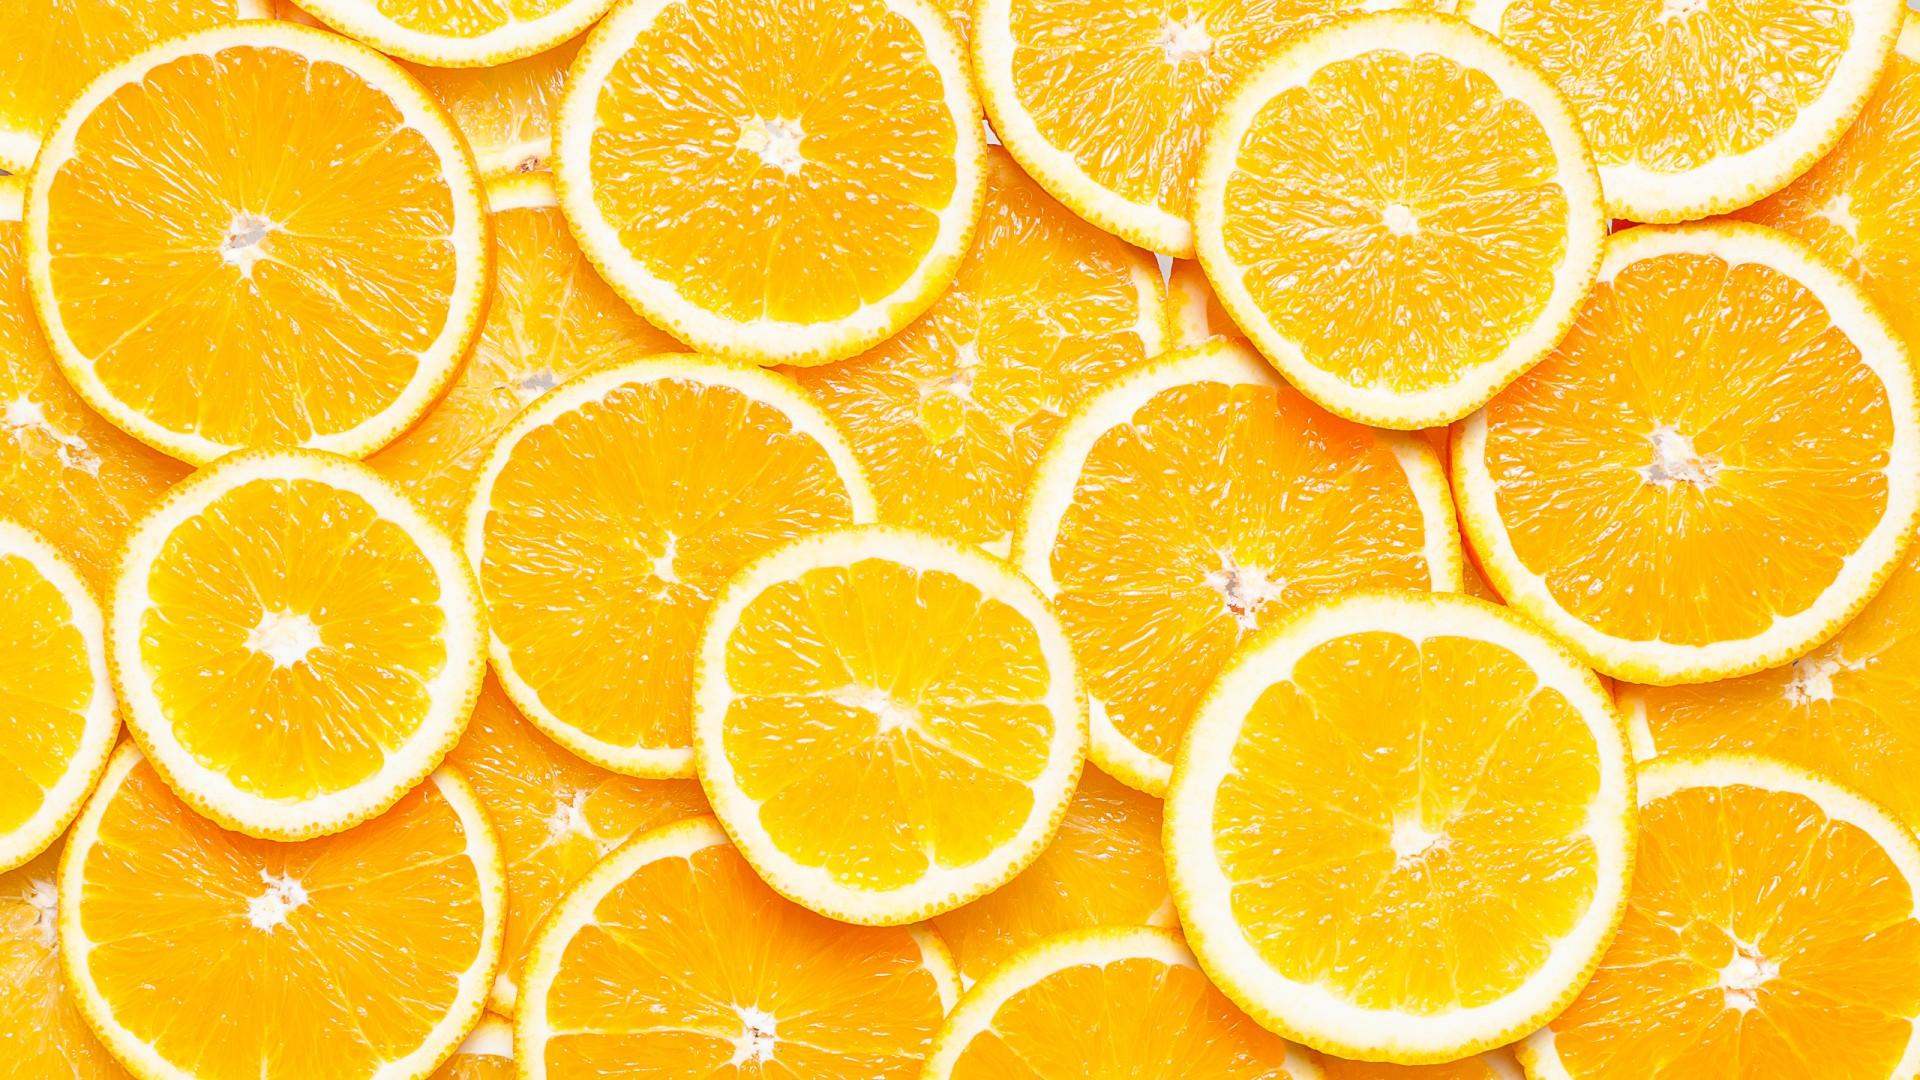orange: (1166, 587, 1652, 1080), (26, 34, 512, 481), (1453, 224, 1913, 683), (1170, 8, 1631, 422), (537, 8, 1018, 367), (109, 444, 509, 873), (680, 524, 1106, 924), (67, 800, 525, 1080)
